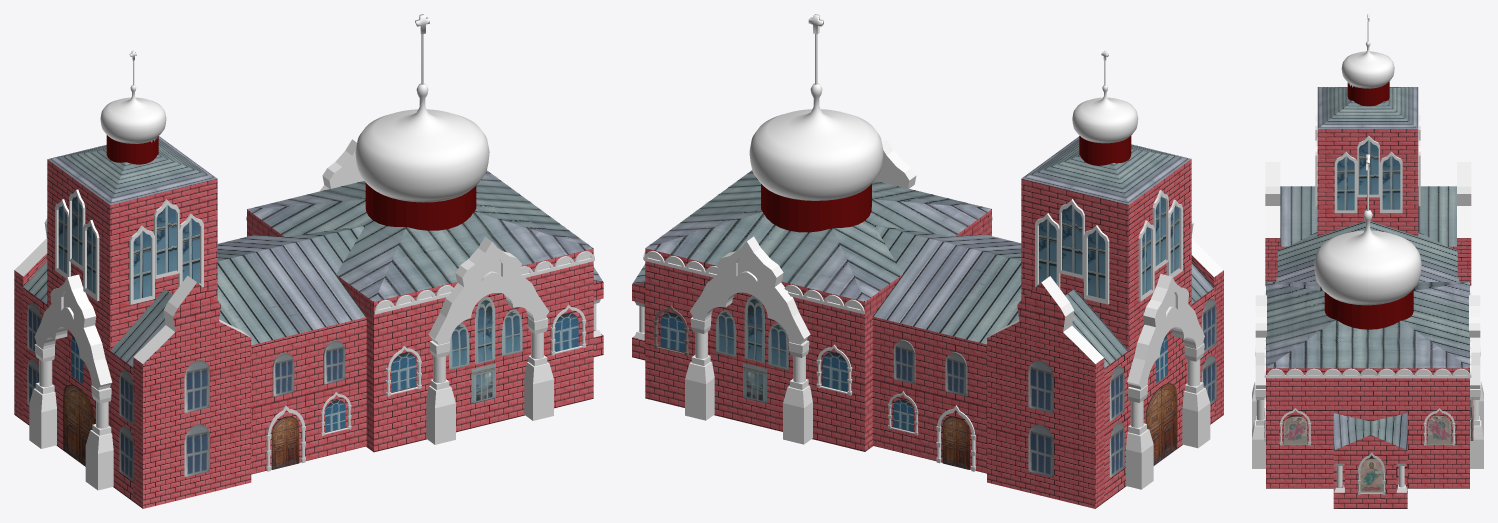
Rendered from prayer_gltf.gltf.
3 renders of one model, left to right at view 1: azimuth 30°, elevation 25°; view 2: azimuth 150°, elevation 25°; view 3: azimuth 270°, elevation 25°, orthographic. The views are drawn at different scales.
Visible parts, largest first — view 1: Cube, Circle, Plane.001, Plane.002, Circle.039, Circle.036, Cylinder, Circle.035, Circle.069, Circle.065, Circle.083, Circle.078 (+13 smaller); view 2: Cube, Circle, Plane.000, Plane.002, Circle.038, Cylinder, Circle.036, Circle.035, Circle.069, Circle.068, Circle.070, Circle.048 (+14 smaller); view 3: Cube, Circle, Circle.037, Cylinder, Plane.001, Plane.000, Circle.035, Cube.003, Circle.046, Cylinder.002, Circle.042, Circle.043 (+4 smaller).
Part boxes in pixels (left/top/right/bottom): Cube: left=14, top=136, right=603, bottom=508; Circle: left=355, top=83, right=489, bottom=202; Plane.001: left=426, top=236, right=553, bottom=444; Plane.002: left=29, top=274, right=113, bottom=490; Circle.039: left=129, top=199, right=203, bottom=304; Circle.036: left=55, top=189, right=99, bottom=301; Cylinder: left=365, top=182, right=476, bottom=230; Circle.035: left=100, top=85, right=166, bottom=143; Circle.069: left=63, top=384, right=94, bottom=466; Circle.065: left=272, top=416, right=299, bottom=469; Circle.083: left=475, top=296, right=495, bottom=364; Circle.078: left=184, top=424, right=209, bottom=477; Cube: left=632, top=136, right=1223, bottom=508; Circle: left=749, top=83, right=883, bottom=200; Plane.000: left=685, top=236, right=812, bottom=444; Plane.002: left=1126, top=274, right=1210, bottom=489; Circle.038: left=1035, top=199, right=1109, bottom=304; Cylinder: left=761, top=184, right=871, bottom=232; Circle.036: left=1138, top=190, right=1182, bottom=301; Circle.035: left=1072, top=85, right=1138, bottom=143; Circle.069: left=1145, top=383, right=1177, bottom=465; Circle.068: left=942, top=416, right=969, bottom=469; Circle.070: left=744, top=295, right=764, bottom=363; Circle.048: left=1028, top=360, right=1053, bottom=413; Cube: left=1265, top=87, right=1471, bottom=508; Circle: left=1314, top=210, right=1421, bottom=305; Circle.037: left=1334, top=135, right=1402, bottom=213; Cylinder: left=1324, top=289, right=1413, bottom=329; Plane.001: left=1252, top=295, right=1266, bottom=468; Plane.000: left=1469, top=295, right=1483, bottom=468; Circle.035: left=1341, top=41, right=1394, bottom=88; Cube.003: left=1266, top=375, right=1470, bottom=378; Circle.046: left=1360, top=455, right=1382, bottom=492; Cylinder.002: left=1347, top=81, right=1389, bottom=106; Circle.042: left=1428, top=415, right=1450, bottom=443; Circle.043: left=1284, top=415, right=1306, bottom=443.
Bounding box in the file's own units: 11.76 × 8.57 × 5.65.
Materials: 15 (13 with a texture image).
